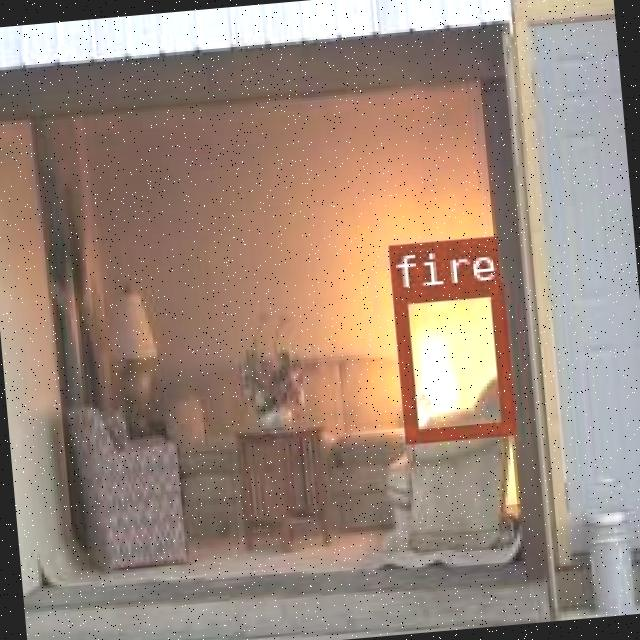fire: (389, 280, 512, 441)
